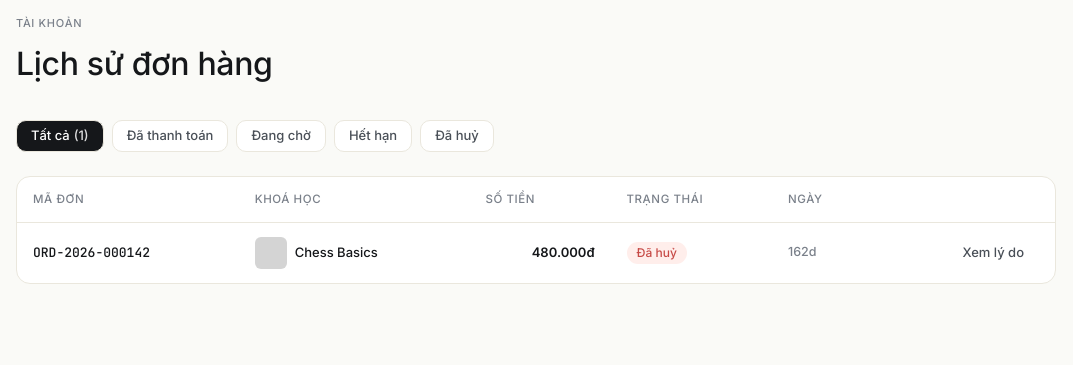
AccountOrdersPage › contextual action per status › Cancelled → "Xem lý do" reveals admin-cancel reason with admin prefix
Click the button with test id "action-reveal-ord-admin-cancel". click: point(993, 253)
box: [947,237,1039,269]
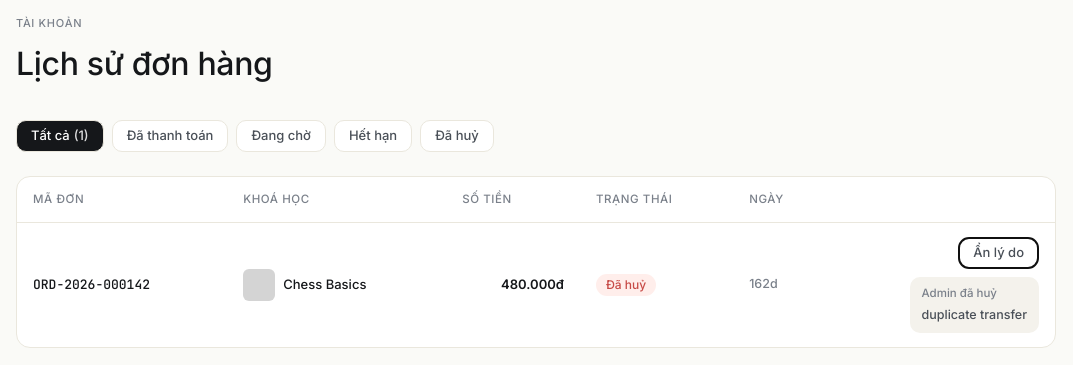
Expected: the element with test id "cancel-reveal-ord-admin-cancel" shows "Admin đã huỷ", [922,286,997,300]
Expected: the element with test id "cancel-reveal-ord-admin-cancel" shows "duplicate transfer", [922,307,1027,322]
